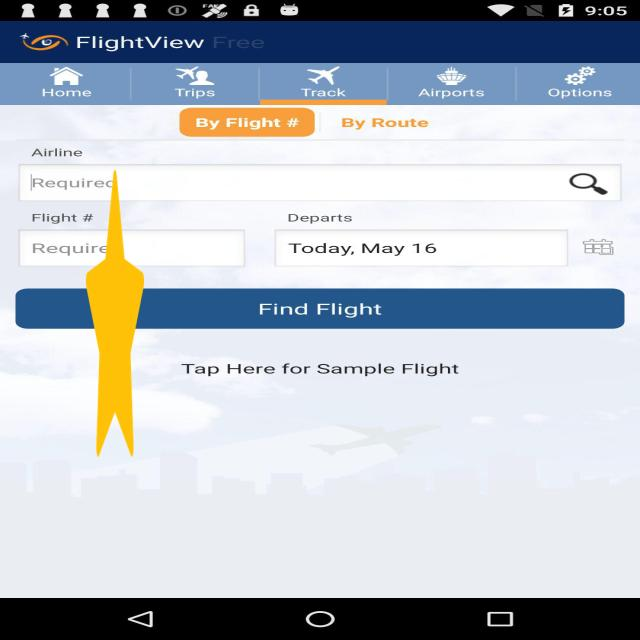forced continuity: (86, 170, 144, 457)
